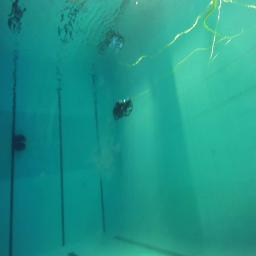Full: (13, 142, 26, 152)
front: (112, 96, 133, 121)
